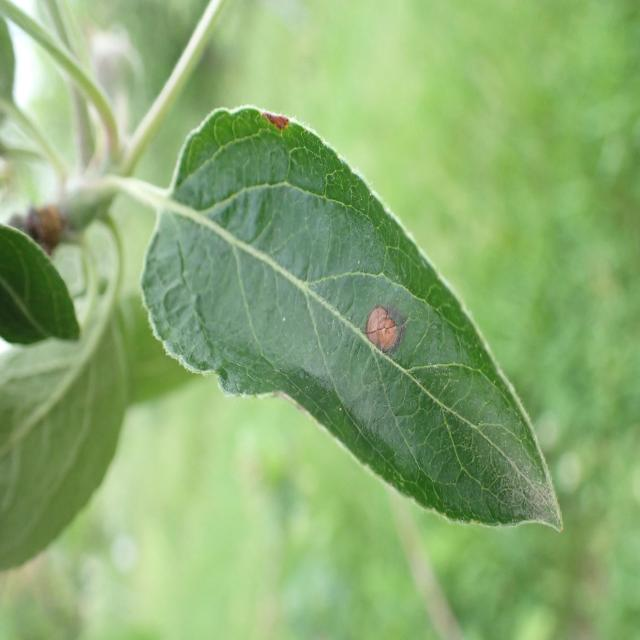scab: (175, 112, 497, 494)
